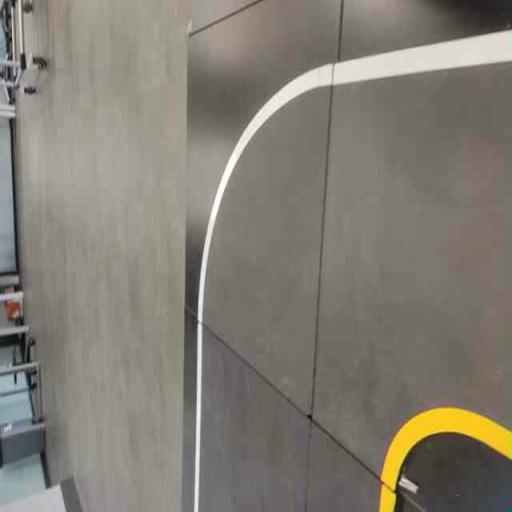left: (187, 28, 511, 494)
